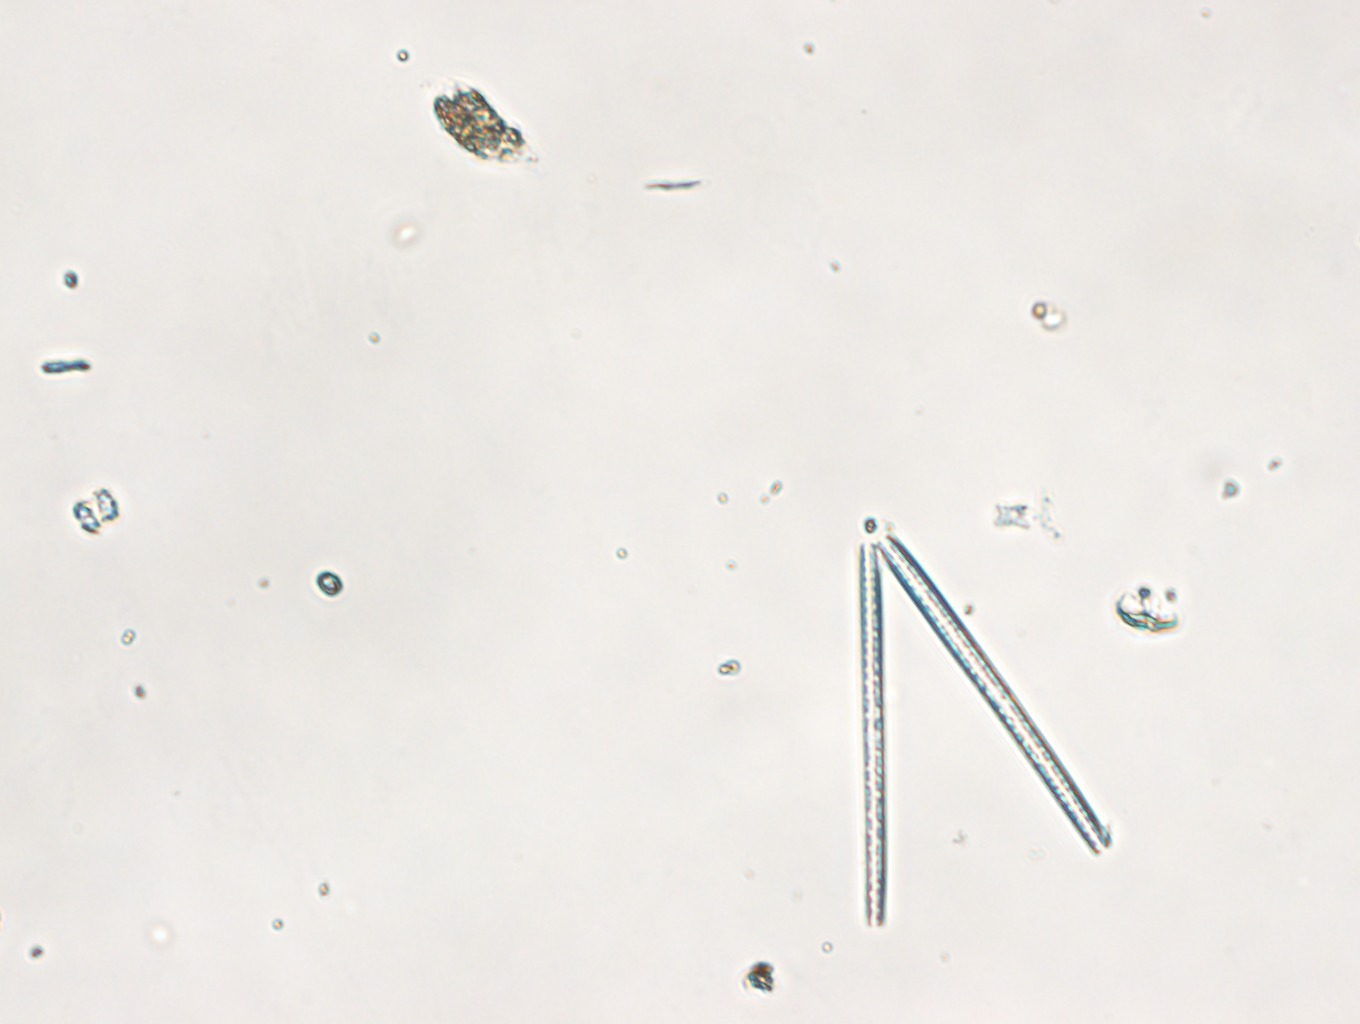thalassionema frauenfeldii: (848, 518, 1118, 935)
